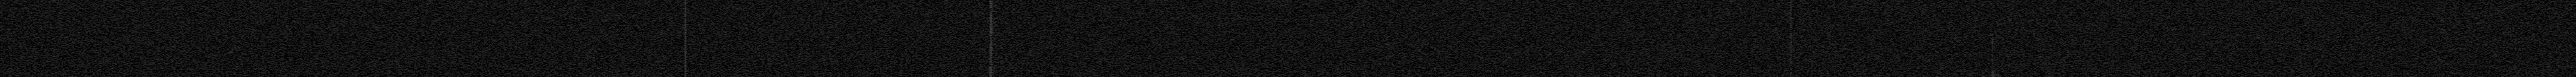wv_am: (683, 0, 687, 77), (1789, 23, 1792, 77), (1789, 0, 1792, 16), (1789, 16, 1792, 21)
wv_usb: (987, 0, 999, 77), (1991, 38, 1999, 77), (1991, 3, 1996, 15), (1991, 16, 1996, 21), (1991, 25, 1994, 31), (1991, 0, 1994, 3), (1991, 31, 1994, 34), (1991, 21, 1994, 25), (1991, 34, 1994, 36)
